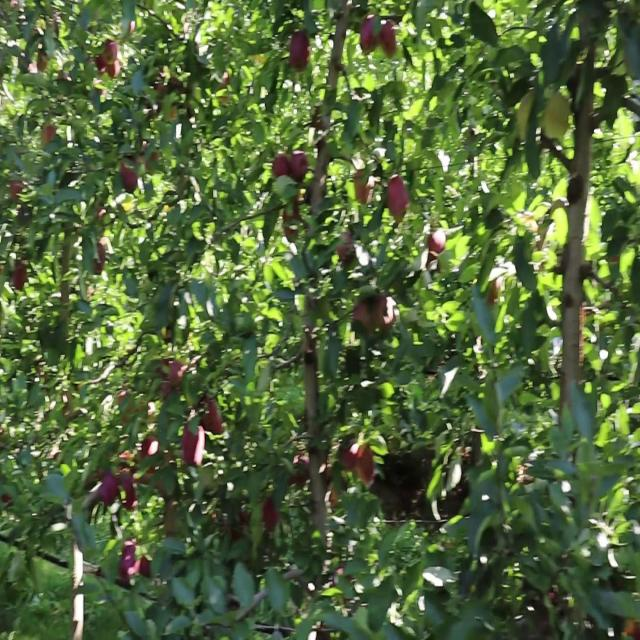apple: (541, 91, 570, 138), (159, 360, 188, 398), (352, 296, 380, 333), (182, 424, 205, 466), (388, 176, 409, 222), (119, 540, 140, 584), (372, 293, 396, 331), (282, 196, 301, 242), (201, 393, 222, 433), (354, 444, 375, 484), (98, 40, 120, 78), (290, 31, 309, 71), (119, 471, 138, 511), (354, 169, 375, 204), (99, 471, 119, 507), (290, 453, 310, 489), (360, 16, 379, 53), (120, 471, 138, 510), (338, 231, 356, 267), (262, 498, 280, 532), (380, 20, 396, 58), (428, 229, 446, 262), (120, 160, 138, 193), (290, 151, 309, 182), (92, 238, 108, 274), (12, 260, 28, 291), (341, 444, 359, 471), (168, 360, 188, 384), (165, 498, 178, 534), (272, 153, 290, 178), (141, 436, 159, 458), (41, 122, 56, 147), (36, 49, 49, 71), (106, 58, 120, 78), (10, 180, 22, 202), (95, 53, 106, 73), (219, 71, 230, 91)
